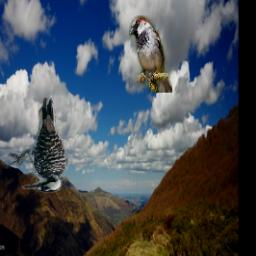Sparrow: (130, 15, 173, 93)
Woodpecker: (7, 98, 69, 194)
